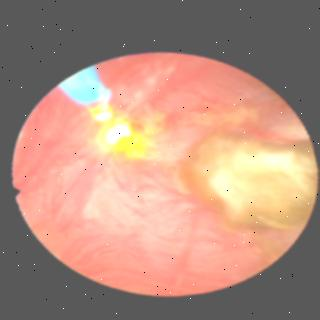fiber: (58, 65, 107, 102)
laser: (96, 118, 143, 155), (88, 102, 110, 119)
stone: (178, 132, 306, 224)
tissue: (12, 54, 300, 289)
